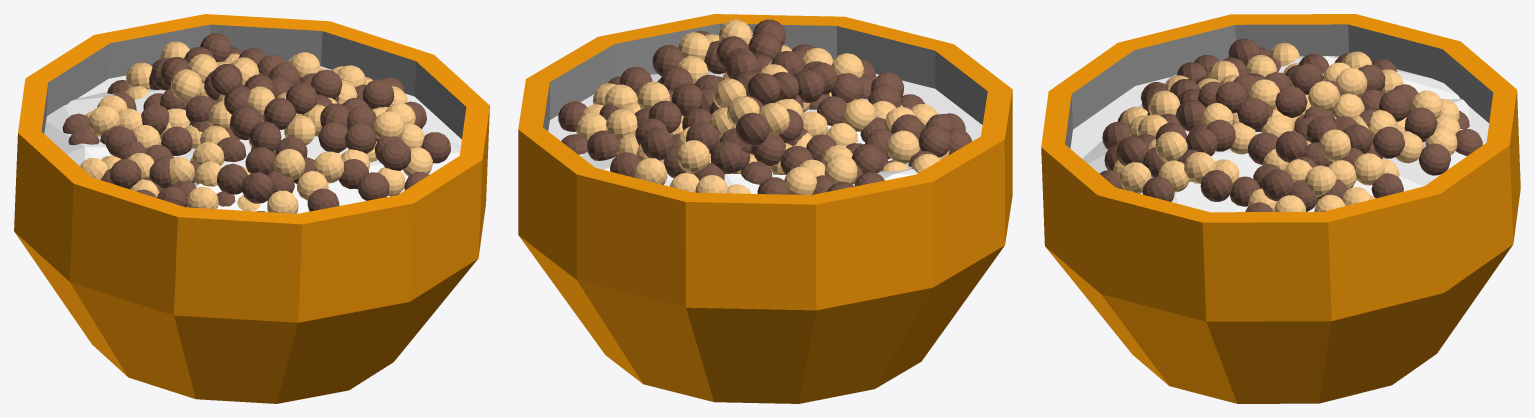
File: cereals.glb
3 views of the same model, side by side, from view 1: azimuth 30°, elevation 25°; view 2: azimuth 150°, elevation 25°; view 3: azimuth 270°, elevation 25° (orthographic). The views are drawn at different scales.
Visible parts, largest first — view 1: Node; view 2: Node; view 3: Node.
Part boxes in pixels (x1,y1,x2,y2): Node: (14,14,489,403); Node: (518,14,1012,403); Node: (1041,14,1520,403).
Bounding box in the file's own units: 0.1477 × 0.0928 × 0.148.
